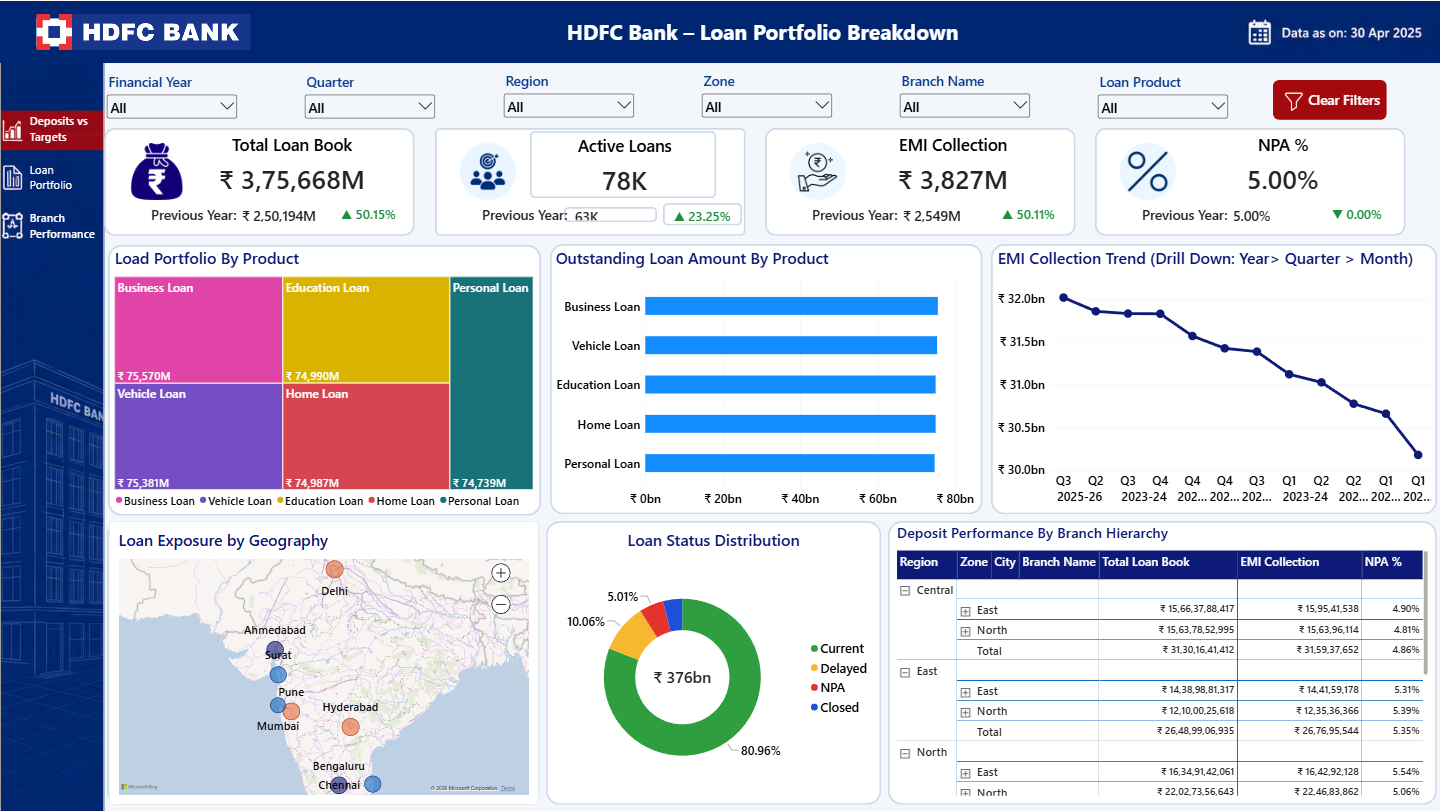

The page's visual inventory and layout, read from the dashboard file:
{"tool":"powerbi","page":{"name":"Loan Portfolio","canvas":[2560,1440],"ordinal":1},"visuals":[{"type":"shape","title":"Header","box":[0,0,2560.8,110.2],"z":0,"group":"g11"},{"type":"image","box":[0,2.5,185,1437.5],"z":0},{"type":"slicer","title":"Year","fields":{"Values":["Dim Date.Financial Year"]},"box":[184,124,241.1,89.4],"z":0,"group":"g9"},{"type":"actionButton","box":[2257.8,139.2,201.6,70.7],"z":0,"group":"g10"},{"type":"shape","box":[1941.3,224.5,550.8,191.2],"z":0,"group":"g1"},{"type":"shape","box":[185,225,550.8,191.2],"z":0,"group":"g8"},{"type":"shape","box":[771,225,550.8,191.2],"z":0,"group":"g7"},{"type":"shape","box":[1356.2,225,550.8,191.2],"z":0,"group":"g6"},{"type":"textbox","box":[2023.8,362.1,175,33.6],"z":0,"group":"g2"},{"type":"textbox","box":[267.5,362.6,175,33.6],"z":0,"group":"g3"},{"type":"textbox","box":[853.5,362.6,175,33.6],"z":0,"group":"g4"},{"type":"textbox","box":[1438.7,362.6,175,33.6],"z":0,"group":"g5"},{"type":"shape","title":"Logo 2nd","box":[64.7,30.9,64.7,50.8],"z":1000,"group":"g11"},{"type":"slicer","title":"Qua","fields":{"Values":["Dim Date.Quarter"]},"box":[535.6,123.7,241.1,89.4],"z":1000,"group":"g9"},{"type":"image","box":[2276.5,145.4,35.3,62.4],"z":1000,"group":"g10"},{"type":"group","id":"g1","title":"4th KPI","box":[1941.3,224.5,550.8,189.1],"z":1000},{"type":"group","id":"g2","title":"Side-KPI","box":[2023.8,358.3,461.2,40],"z":1000,"group":"g1"},{"type":"group","id":"g3","title":"Side-KPI","box":[267.5,358.8,461.2,40],"z":1000,"group":"g8"},{"type":"group","id":"g4","title":"Side-KPI","box":[853.5,358.8,461.2,40],"z":1000,"group":"g7"},{"type":"group","id":"g5","title":"Side-KPI","box":[1438.7,358.8,461.2,40],"z":1000,"group":"g6"},{"type":"cardVisual","fields":{"Data":["Measures_2.NPA % PY"]},"box":[2170,365.8,165,27.5],"z":1000,"group":"g2"},{"type":"cardVisual","fields":{"Data":["Measures_2.Total Loan Book PY"]},"box":[413.7,366.3,165,27.5],"z":1000,"group":"g3"},{"type":"cardVisual","fields":{"Data":["Measures_2.Active Loans PY"]},"box":[999.7,366.3,165,27.5],"z":1000,"group":"g4"},{"type":"cardVisual","fields":{"Data":["Measures_2.EMI Collection PY"]},"box":[1584.9,366.3,165,27.5],"z":1000,"group":"g5"},{"type":"image","title":"Logo","box":[0,0,509.2,110.2],"z":2000,"group":"g11"},{"type":"slicer","title":"Region","fields":{"Values":["Dim Branch.Region"]},"box":[887.2,122.7,241.1,89.4],"z":2000,"group":"g9"},{"type":"cardVisual","fields":{"Data":["Measures_2.NPA %"]},"box":[2109.9,230.1,330.8,119.9],"z":2000,"group":"g1"},{"type":"cardVisual","fields":{"Data":["Measures_2.Total Loan Book"]},"box":[353.6,230.6,330.8,119.9],"z":2000,"group":"g8"},{"type":"cardVisual","fields":{"Data":["Measures_2.Active Loans"]},"box":[939.6,230.6,330.8,119.9],"z":2000,"group":"g7"},{"type":"cardVisual","fields":{"Data":["Measures_2.EMI Collection"]},"box":[1524.8,230.6,330.8,119.9],"z":2000,"group":"g6"},{"type":"cardVisual","title":"%","fields":{"Data":["Measures_2.NPA Change Label"]},"box":[2345,358.3,140,40],"z":2000,"group":"g2"},{"type":"cardVisual","title":"%","fields":{"Data":["Measures_2.Loan Book Growth Label"]},"box":[588.7,358.8,140,40],"z":2000,"group":"g3"},{"type":"cardVisual","title":"%","fields":{"Data":["Measures_2.Active Loans Growth Label"]},"box":[1174.7,358.8,140,40],"z":2000,"group":"g4"},{"type":"cardVisual","title":"%","fields":{"Data":["Measures_2.EMI Growth Label"]},"box":[1759.9,358.8,140,40],"z":2000,"group":"g5"},{"type":"shape","box":[192,432,768,480],"z":2000},{"type":"textbox","title":"Heading","box":[796.1,29,1112.5,51.2],"z":3000,"group":"g11"},{"type":"slicer","title":"Zone","fields":{"Values":["Dim Branch.Zone"]},"box":[1238.8,122.3,241.1,89.4],"z":3000,"group":"g9"},{"type":"group","id":"g6","title":"3rd KPI","box":[1356.2,225,550,190],"z":3000},{"type":"image","box":[1974.2,250.9,119.9,100.7],"z":3000,"group":"g1"},{"type":"image","box":[217.9,251.4,119.9,100.7],"z":3000,"group":"g8"},{"type":"image","box":[803.9,251.4,119.9,100.7],"z":3000,"group":"g7"},{"type":"image","box":[1389.1,251.4,119.9,100.7],"z":3000,"group":"g6"},{"type":"slicer","title":"Branch","fields":{"Values":["Dim Branch.Branch Name"]},"box":[1590.4,122,241.1,89.4],"z":4000,"group":"g9"},{"type":"group","id":"g7","title":"2nd KPI","box":[771,225,550,190],"z":4000},{"type":"slicer","title":"Product","fields":{"Values":["Dim Product.Product Name"]},"box":[1942,123.3,241.1,89.4],"z":5000,"group":"g9"},{"type":"group","id":"g8","title":"1st KPI","box":[185,225,550.8,191.2],"z":5000},{"type":"group","id":"g9","title":"Slicer","box":[184,122,2275.4,91.4],"z":6000},{"type":"group","id":"g10","title":"Clear Filter","box":[2257.8,139.2,201.6,70.7],"z":6000,"group":"g9"},{"type":"group","id":"g11","title":"Header","box":[0,0,2560,110],"z":7000},{"type":"shape","box":[975.6,431.5,767,479.4],"z":8000},{"type":"shape","box":[1757,431.5,791,479.4],"z":9000},{"type":"shape","box":[189.4,922.8,767,503.4],"z":10000},{"type":"shape","box":[968.4,922.8,594.5,503.4],"z":11000},{"type":"shape","box":[1574.8,922.8,973.2,503.4],"z":12000},{"type":"treemap","title":"Load Portfolio By Product","fields":{"Group":["Dim Product.Product Name"],"Values":["Measures_2.Total Loan Book"]},"box":[194.2,431.5,762.2,479.4],"z":13000},{"type":"clusteredBarChart","title":"Outstanding Loan Amount By Product","fields":{"Category":["Dim Product.Product Name"],"Y":["Measures_2.Total Loan Book"]},"box":[975.6,431.5,762.2,479.4],"z":14000},{"type":"lineChart","title":"EMI Collection Trend (Drill Down: Year> Quarter > Month)","fields":{"Category":["Dim Date.Financial Year","Dim Date.Quarter"],"Y":["Measures_2.Total Loan Book"]},"box":[1759.4,431.5,788.6,479.4],"z":15000},{"type":"map","title":"Loan Exposure by Geography","fields":{"Category":["Dim Branch.City"],"Size":["Measures_2.Total Loan Book"]},"box":[194.2,922.8,762.2,503.4],"z":16000},{"type":"donutChart","title":"Loan Status Distribution","fields":{"Category":["Fact Loan Repayments.Loan Status"],"Y":["Measures_2.Total Loan Book"]},"box":[968.6,922.9,594.5,503],"z":17000},{"type":"pivotTable","title":"Deposit Performance By Branch Hierarchy","fields":{"Rows":["Dim Branch.Region","Dim Branch.Zone","Dim Branch.City","Dim Branch.Branch Name"],"Values":["Measures_2.Total Loan Book","Measures_2.EMI Collection","Measures_2.NPA %"]},"box":[1575.1,911.9,973.5,514],"z":18000},{"type":"image","box":[2180,0,380,110],"z":19000},{"type":"pageNavigator","box":[40,182.5,140,257.5],"z":19001}]}

Visuals, with their boxes in screenshot pixels (x1, y1, x2, y2), scaled from the page's 2560x1440 canvas onto the 1440x811 screenshot:
"Header" shape: detection(0, 0, 1439, 62)
image: detection(0, 1, 104, 810)
"Year" slicer: detection(104, 70, 239, 120)
actionButton: detection(1270, 78, 1383, 118)
shape: detection(1092, 126, 1402, 234)
shape: detection(104, 127, 414, 234)
shape: detection(434, 127, 744, 234)
shape: detection(763, 127, 1073, 234)
textbox: detection(1138, 204, 1237, 223)
textbox: detection(150, 204, 249, 223)
textbox: detection(480, 204, 579, 223)
textbox: detection(809, 204, 908, 223)
"Logo 2nd" shape: detection(36, 17, 73, 46)
"Qua" slicer: detection(301, 70, 437, 120)
image: detection(1281, 82, 1300, 117)
"4th KPI" group: detection(1092, 126, 1402, 233)
"Side-KPI" group: detection(1138, 202, 1398, 224)
"Side-KPI" group: detection(150, 202, 410, 225)
"Side-KPI" group: detection(480, 202, 740, 225)
"Side-KPI" group: detection(809, 202, 1069, 225)
cardVisual - Measures_2.NPA % PY: detection(1221, 206, 1313, 222)
cardVisual - Measures_2.Total Loan Book PY: detection(233, 206, 326, 222)
cardVisual - Measures_2.Active Loans PY: detection(562, 206, 655, 222)
cardVisual - Measures_2.EMI Collection PY: detection(892, 206, 984, 222)
"Logo" image: detection(0, 0, 286, 62)
"Region" slicer: detection(499, 69, 635, 119)
cardVisual - Measures_2.NPA %: detection(1187, 130, 1373, 197)
cardVisual - Measures_2.Total Loan Book: detection(199, 130, 385, 197)
cardVisual - Measures_2.Active Loans: detection(529, 130, 715, 197)
cardVisual - Measures_2.EMI Collection: detection(858, 130, 1044, 197)
"%" cardVisual: detection(1319, 202, 1398, 224)
"%" cardVisual: detection(331, 202, 410, 225)
"%" cardVisual: detection(661, 202, 740, 225)
"%" cardVisual: detection(990, 202, 1069, 225)
shape: detection(108, 243, 540, 514)
"Heading" textbox: detection(448, 16, 1074, 45)
"Zone" slicer: detection(697, 69, 832, 119)
"3rd KPI" group: detection(763, 127, 1072, 234)
image: detection(1110, 141, 1178, 198)
image: detection(123, 142, 190, 198)
image: detection(452, 142, 520, 198)
image: detection(781, 142, 849, 198)
"Branch" slicer: detection(895, 69, 1030, 119)
"2nd KPI" group: detection(434, 127, 743, 234)
"Product" slicer: detection(1092, 69, 1228, 120)
"1st KPI" group: detection(104, 127, 414, 234)
"Slicer" group: detection(104, 69, 1383, 120)
"Clear Filter" group: detection(1270, 78, 1383, 118)
"Header" group: detection(0, 0, 1439, 62)
shape: detection(549, 243, 980, 513)
shape: detection(988, 243, 1433, 513)
shape: detection(107, 520, 538, 803)
shape: detection(545, 520, 879, 803)
shape: detection(886, 520, 1433, 803)
"Load Portfolio By Product" treemap: detection(109, 243, 538, 513)
"Outstanding Loan Amount By Product" clusteredBarChart: detection(549, 243, 978, 513)
"EMI Collection Trend (Drill Down: Year> Quarter > Month)" lineChart: detection(990, 243, 1433, 513)
"Loan Exposure by Geography" map: detection(109, 520, 538, 803)
"Loan Status Distribution" donutChart: detection(545, 520, 879, 803)
"Deposit Performance By Branch Hierarchy" pivotTable: detection(886, 514, 1434, 803)
image: detection(1226, 0, 1439, 62)
pageNavigator: detection(22, 103, 101, 248)
